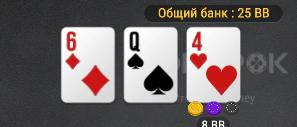4h: (186, 28, 241, 102)
6d: (61, 27, 115, 102)
Qs: (124, 28, 177, 102)
